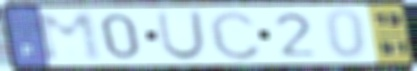0: (323, 7, 372, 62), (96, 12, 144, 61)
2: (273, 11, 320, 59)
C: (206, 8, 265, 62)
M: (31, 10, 107, 63)
U: (154, 9, 208, 62)
